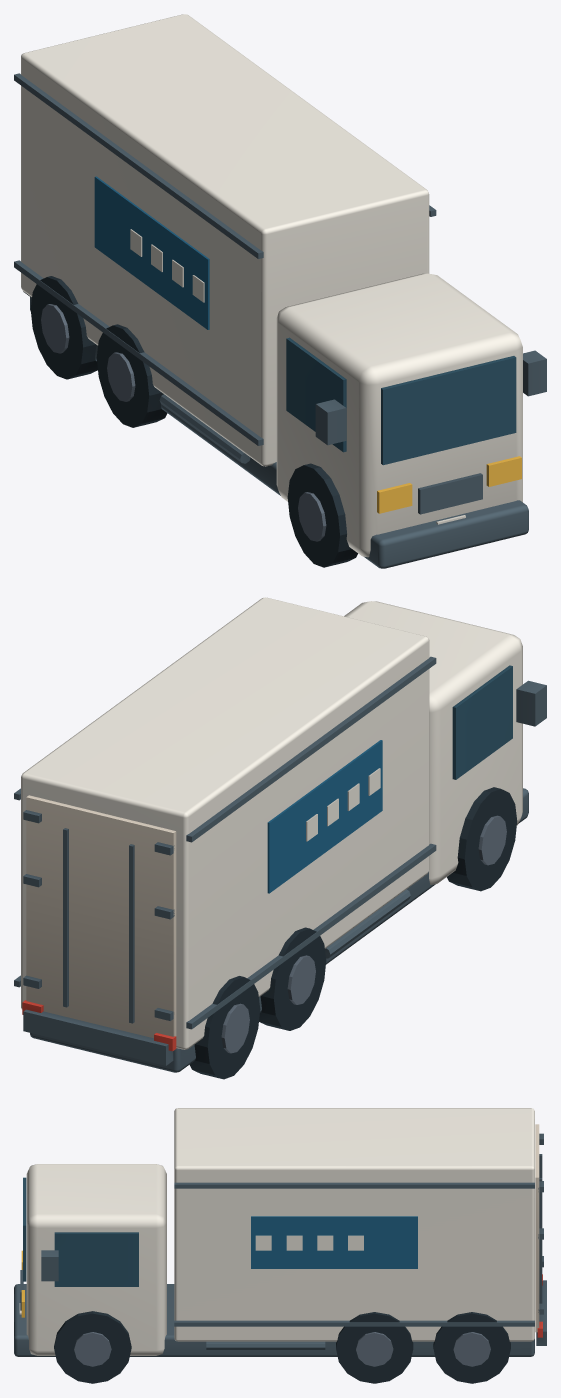
File: delivery-truck.glb
3 renders of one model, top to bottom at view 1: azimuth 30°, elevation 25°; view 2: azimuth 150°, elevation 25°; view 3: azimuth 270°, elevation 25°, orthographic. The views are drawn at different scales.
Parts seen in each view (by area): view 1: cargo box, truck chassis, windshield, truck tire, plate characters, wheel hub, headlight; view 2: cargo box, rear door, truck chassis, truck tire, plate characters, windshield, wheel hub; view 3: cargo box, truck chassis, truck tire, plate characters, windshield, wheel hub, rear door.
Boxes of the visible parts, x1,y1,x2,y2 form: cargo box: (21, 14, 522, 557); truck chassis: (14, 73, 546, 568); windshield: (286, 337, 516, 465); truck tire: (30, 276, 357, 567); plate characters: (94, 176, 209, 329); wheel hub: (41, 304, 326, 541); headlight: (377, 456, 521, 513); cargo box: (21, 597, 522, 1049); rear door: (26, 795, 176, 1038); truck chassis: (14, 656, 546, 1072); truck tire: (189, 787, 517, 1079); plate characters: (267, 740, 382, 893); windshield: (452, 665, 512, 779); wheel hub: (221, 815, 506, 1053); cargo box: (19, 1108, 534, 1355); truck chassis: (14, 1133, 546, 1356); truck tire: (54, 1311, 510, 1383); plate characters: (251, 1216, 417, 1268); windshield: (23, 1177, 138, 1286); wheel hub: (74, 1332, 490, 1366); rear door: (535, 1124, 539, 1332).
Bounding box in the file's own units: 1.4 × 1.77 × 3.99.
